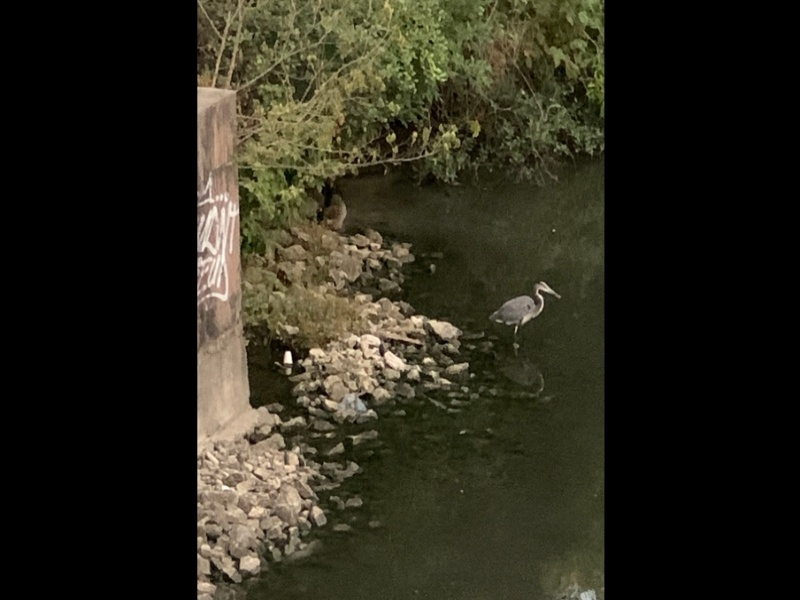heron: (490, 277, 562, 352)
